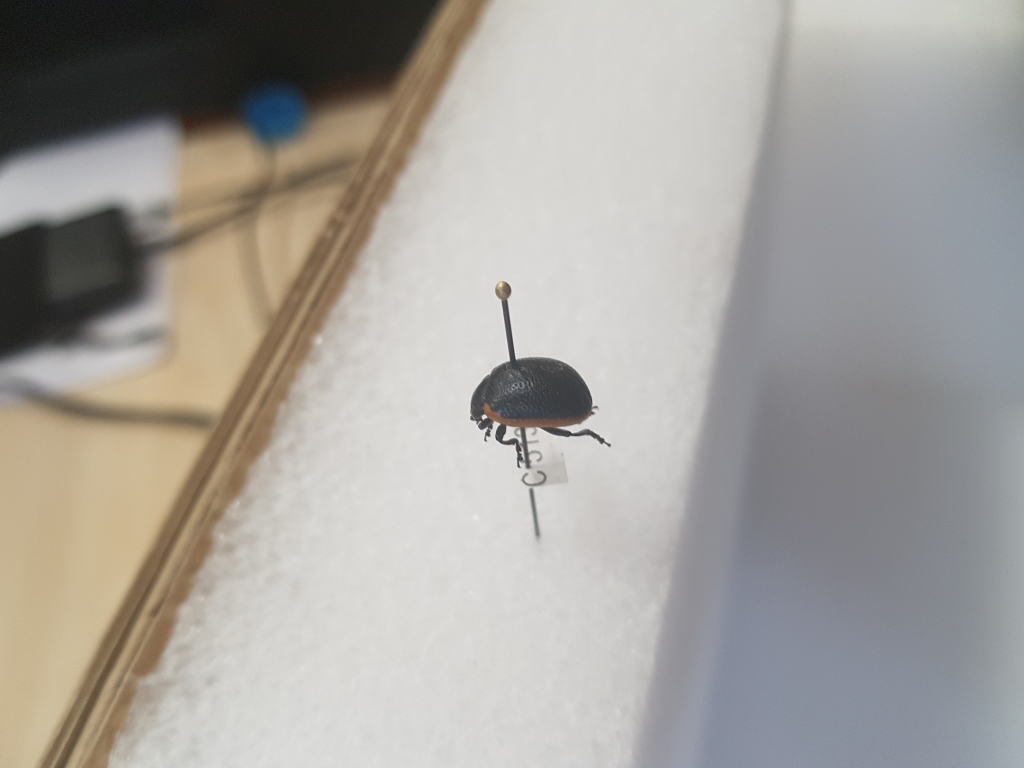Chrysolina_gypsophila: (465, 351, 613, 467)
